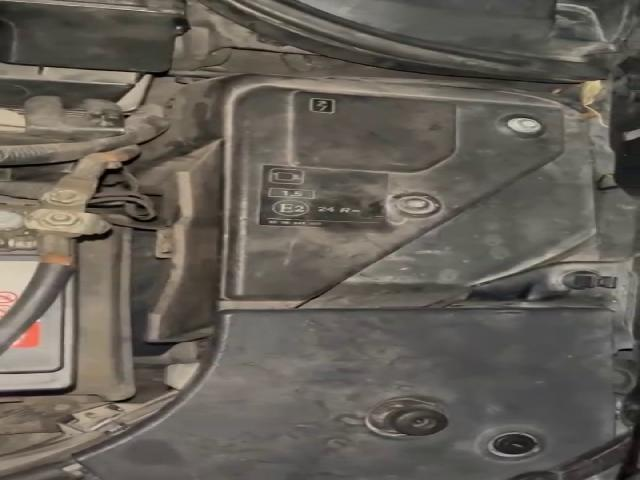fuse_box: (132, 73, 606, 341)
